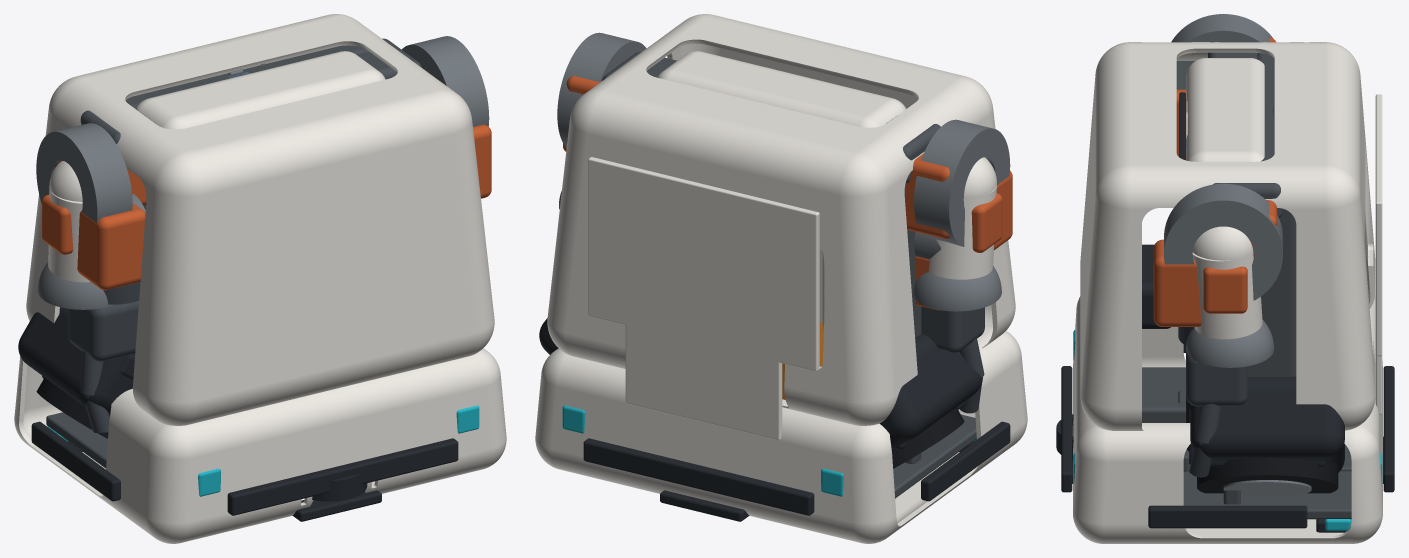
Rendered from ZI-E_v1_0_SHUTDOWN.gltf.
3 views of the same model, side by side, from view 1: azimuth 30°, elevation 25°; view 2: azimuth 150°, elevation 25°; view 3: azimuth 270°, elevation 25° (orthographic). The views are drawn at different scales.
Parts seen in each view (by area): view 1: torso_shell, base_shell, head_shell, arm_-1_pod, bumper_segment_1, wheel_-1_fairing, arm_-1_shoulder_servo_2, arm_1_pod, arm_-1_gripper_palm, arm_-1_upper, bumper_segment_3, arm_-1_elbow (+11 smaller); view 2: torso_shell, rear_service_cover, base_shell, battery_door, head_shell, arm_-1_pod, bumper_segment_2, wheel_-1_fairing, arm_-1_upper, arm_1_pod, arm_-1_elbow, bumper_segment_3 (+8 smaller); view 3: torso_shell, base_shell, wheel_1_fairing, head_shell, arm_1_pod, lower_chassis, shoulder_tower_1, arm_1_upper, bumper_segment_4, wheel_1_tire, arm_1_shoulder_servo_2, arm_1_elbow (+13 smaller).
Part boxes in pixels (x1,y1,x2,y2): torso_shell: (26,14,494,425); base_shell: (14,348,506,543); head_shell: (137,51,385,129); arm_-1_pod: (36,123,132,222); bumper_segment_1: (227,438,458,515); wheel_-1_fairing: (18,307,135,415); arm_-1_shoulder_servo_2: (77,203,145,290); arm_1_pod: (402,36,489,126); arm_-1_gripper_palm: (68,301,138,361); arm_-1_upper: (48,161,90,282); bumper_segment_3: (31,421,120,501); arm_-1_elbow: (38,262,113,309); torso_shell: (547,14,1015,425); rear_service_cover: (588,157,819,371); base_shell: (535,324,1027,543); battery_door: (625,309,782,440); head_shell: (658,51,905,127); arm_-1_pod: (914,119,1010,246); bumper_segment_2: (583,438,814,515); wheel_-1_fairing: (879,334,982,448); arm_-1_upper: (928,157,996,279); arm_1_pod: (557,32,646,147); arm_-1_elbow: (913,266,1001,311); bumper_segment_3: (921,421,1010,501); torso_shell: (1080,42,1375,430); base_shell: (1073,296,1382,543); wheel_1_fairing: (1190,376,1344,472); head_shell: (1186,58,1264,161); arm_1_pod: (1164,183,1282,300); lower_chassis: (1142,367,1351,519); shoulder_tower_1: (1213,183,1296,376); arm_1_upper: (1192,226,1262,339); bumper_segment_4: (1148,505,1307,528); wheel_1_tire: (1197,458,1338,493); arm_1_shoulder_servo_2: (1153,239,1201,326); arm_1_elbow: (1186,319,1274,367).
Bounding box in the file's own units: 220 × 182 × 153.
